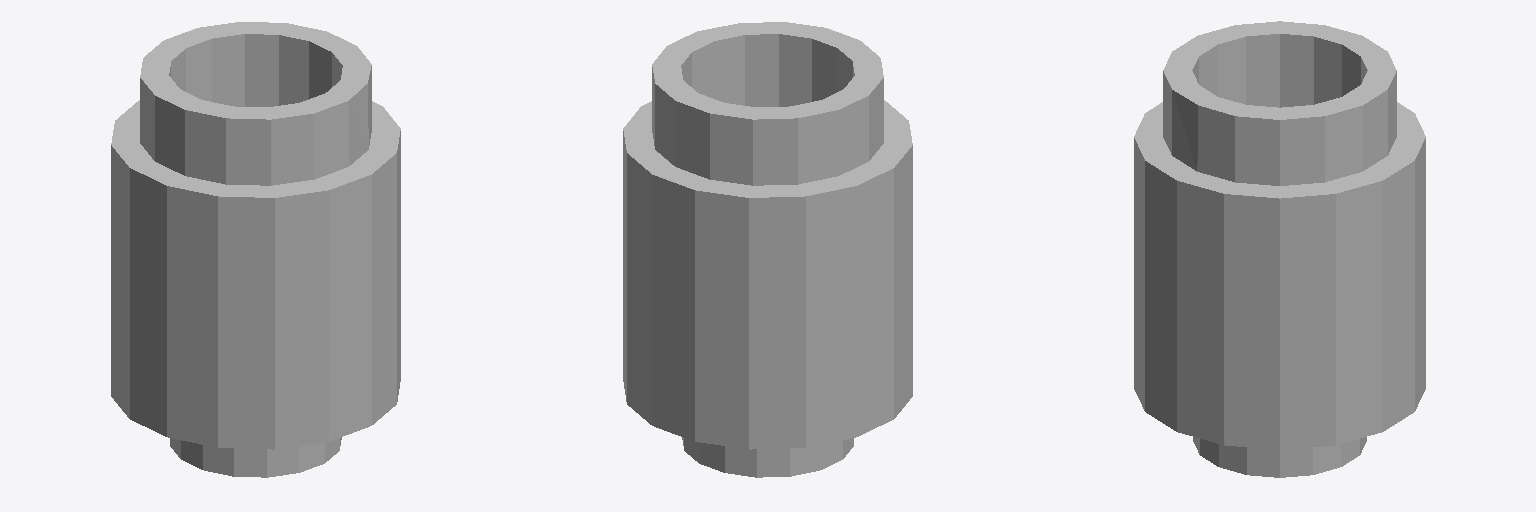
3 renders of one model, left to right at view 1: azimuth 30°, elevation 25°; view 2: azimuth 150°, elevation 25°; view 3: azimuth 270°, elevation 25°, orthographic.
Parts seen in each view (by area): view 1: [number redacted]_[number redacted].002; view 2: [number redacted]_[number redacted].002; view 3: [number redacted]_[number redacted].002.
Boxes of the visible parts, x1=… form: [number redacted]_[number redacted].002: x1=111, y1=22, x2=400, y2=477; [number redacted]_[number redacted].002: x1=623, y1=22, x2=912, y2=477; [number redacted]_[number redacted].002: x1=1134, y1=21, x2=1425, y2=477.
Size of the model in its own units: 20 by 28 by 20.